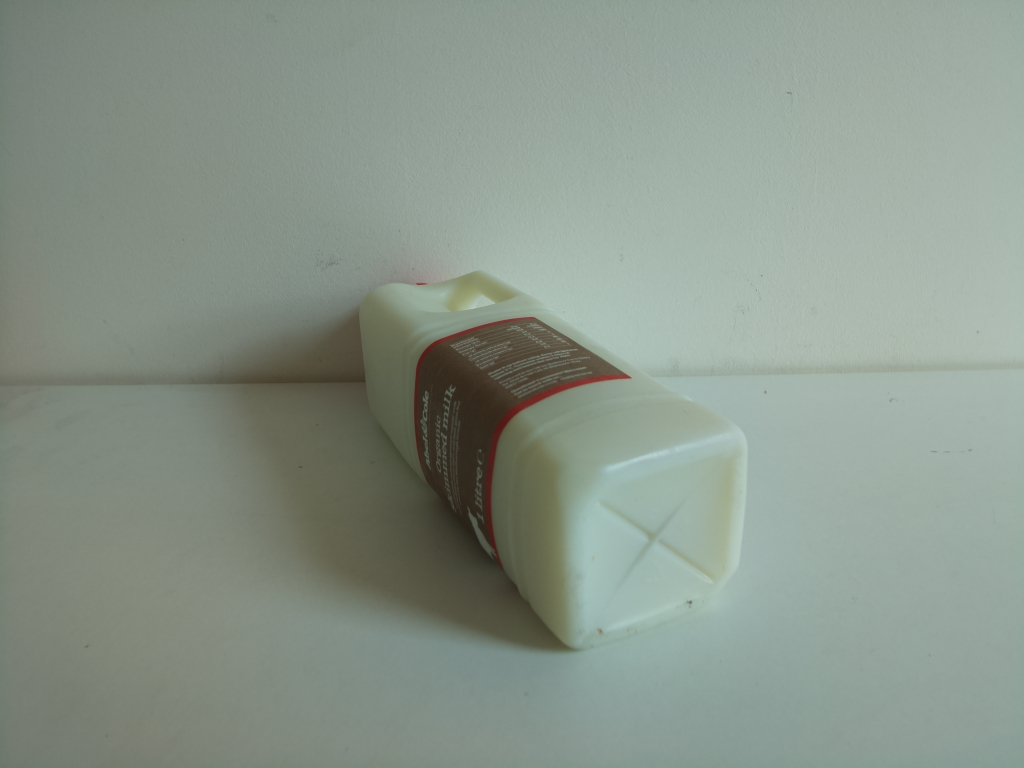milk: (347, 268, 756, 654)
